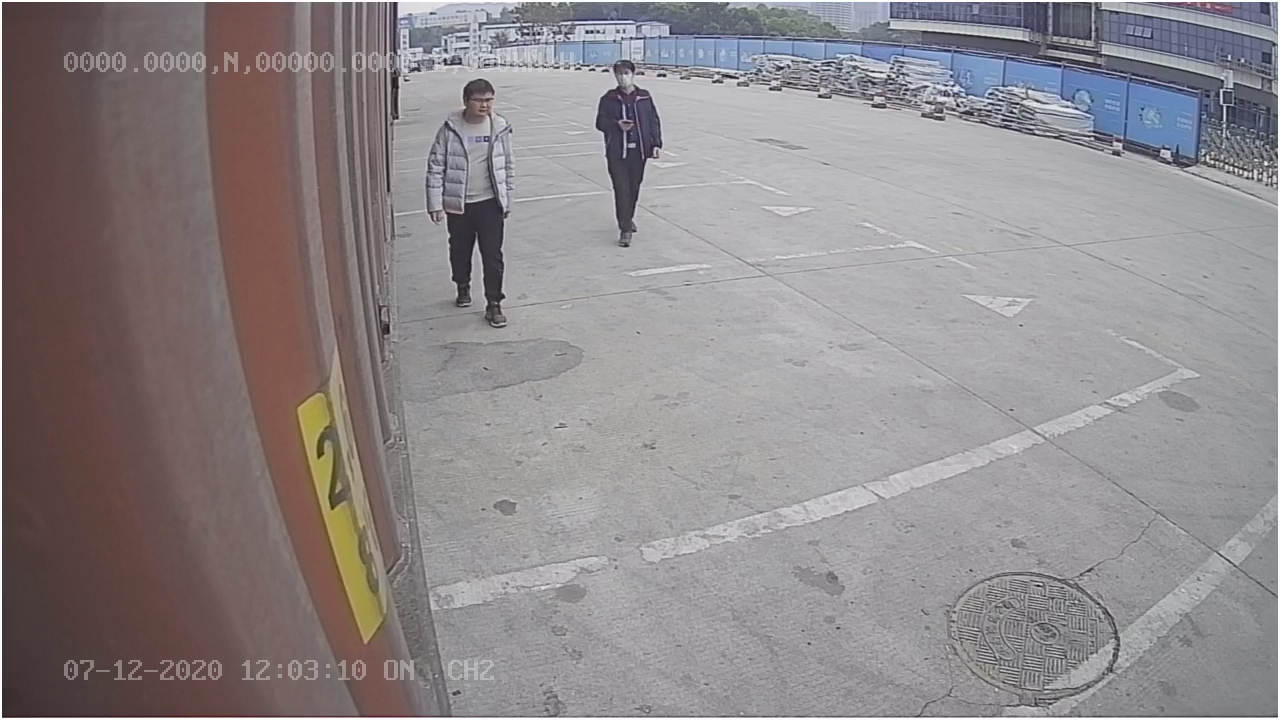person: (426, 79, 519, 327)
